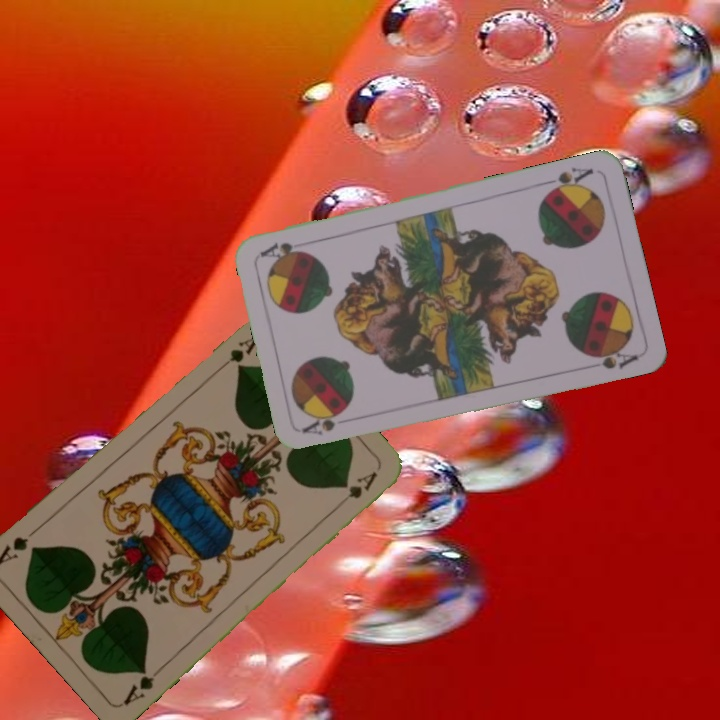GA: (119, 661, 166, 708), (212, 332, 261, 375)
SA: (539, 163, 596, 198), (299, 409, 346, 438)
